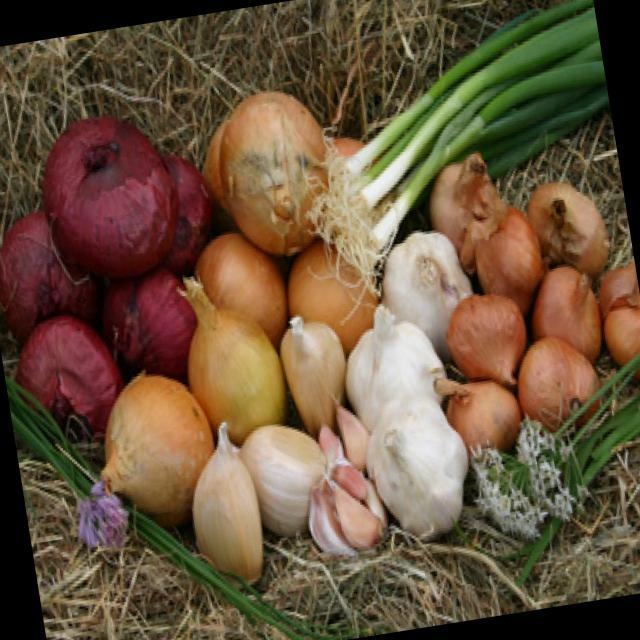ONIONS: (38, 104, 180, 277), (214, 90, 340, 260), (357, 378, 476, 558), (86, 372, 206, 522), (172, 437, 268, 592), (9, 313, 120, 442), (172, 299, 278, 426), (236, 417, 334, 540), (525, 165, 619, 270), (441, 284, 532, 388), (436, 150, 513, 267), (276, 304, 352, 420), (382, 228, 462, 336), (0, 200, 70, 313)
